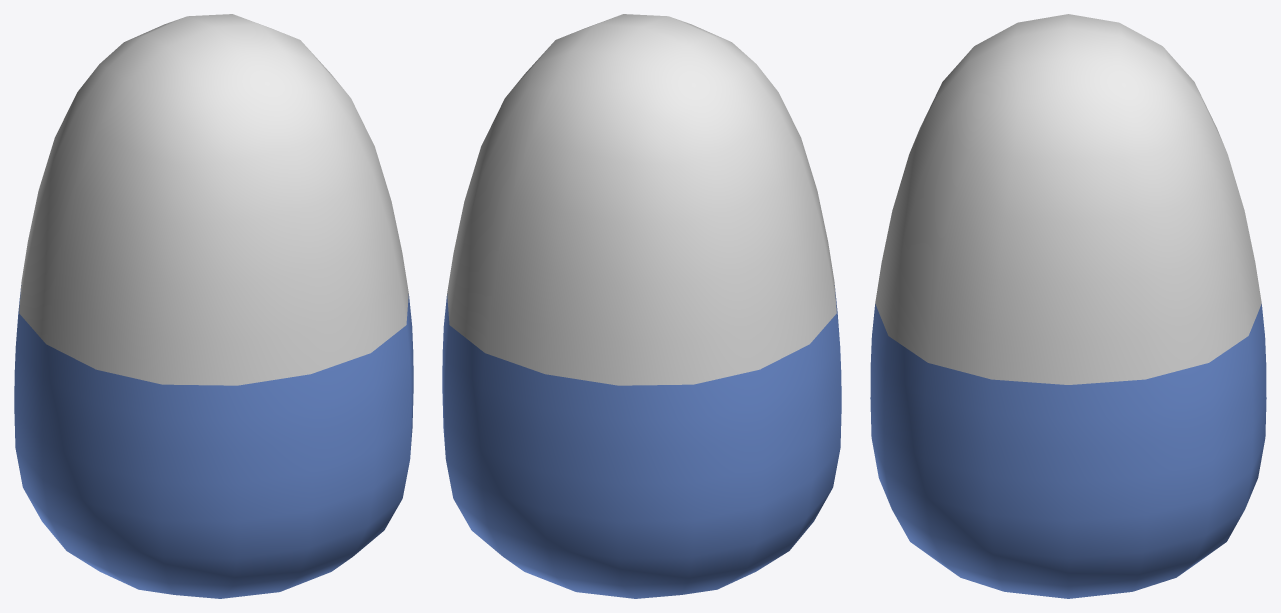
Rendered from BlueEgg.fbx.
The picture shows the model from 3 angles, left to right: view 1: azimuth 30°, elevation 25°; view 2: azimuth 150°, elevation 25°; view 3: azimuth 270°, elevation 25°; orthographic projection.
Visible parts, largest first — view 1: TopBlue, BottomBlue; view 2: TopBlue, BottomBlue; view 3: TopBlue, BottomBlue.
Part boxes in pixels (bbox=[...]): TopBlue: bbox=[19, 14, 408, 385]; BottomBlue: bbox=[14, 285, 413, 598]; TopBlue: bbox=[447, 14, 836, 385]; BottomBlue: bbox=[442, 285, 841, 598]; TopBlue: bbox=[875, 14, 1261, 384]; BottomBlue: bbox=[870, 304, 1266, 598].
Size of the model in its own units: 44.18 by 66.35 by 44.18.
